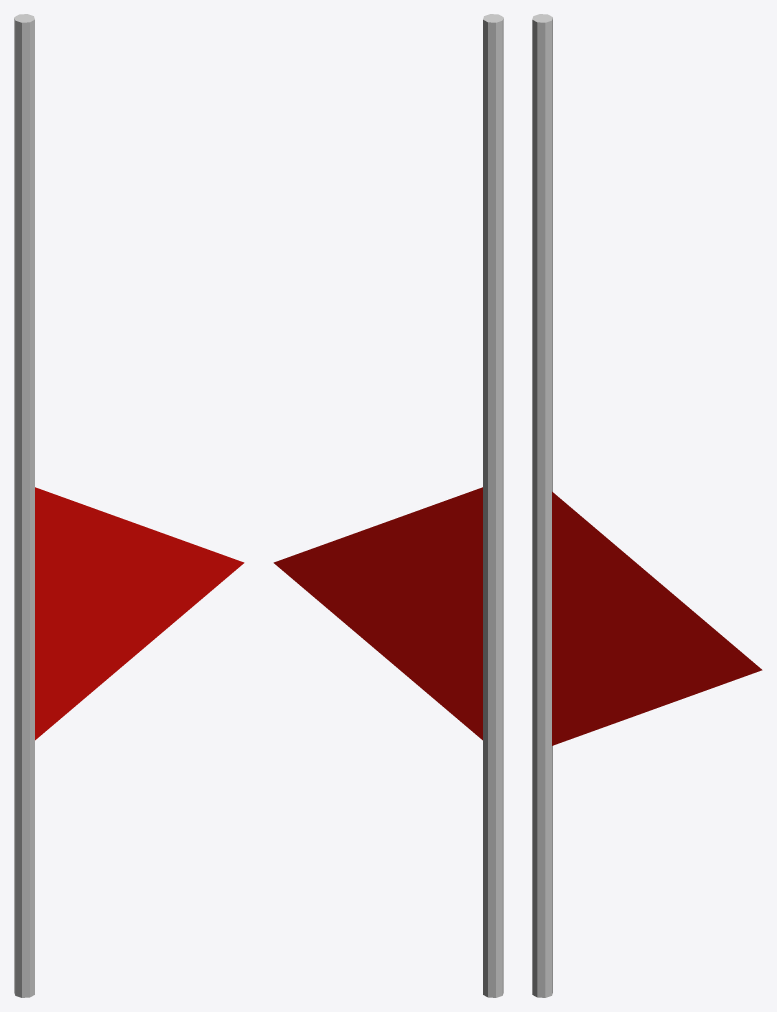
The model's file is Checkpoint_flag.fbx.
3 views of the same model, side by side, from view 1: azimuth 30°, elevation 25°; view 2: azimuth 150°, elevation 25°; view 3: azimuth 330°, elevation 25° (orthographic).
Visible parts, largest first — view 1: Cylinder.001, Cylinder; view 2: Cylinder.001, Cylinder; view 3: Cylinder.001, Cylinder.
Part boxes in pixels (x1,y1,x2,y2): Cylinder.001: (35, 487, 244, 740); Cylinder: (14, 14, 34, 997); Cylinder.001: (273, 487, 482, 740); Cylinder: (483, 14, 503, 997); Cylinder.001: (552, 491, 762, 745); Cylinder: (532, 14, 552, 997).
Size of the model in its own units: 49.24 by 200 by 4.
